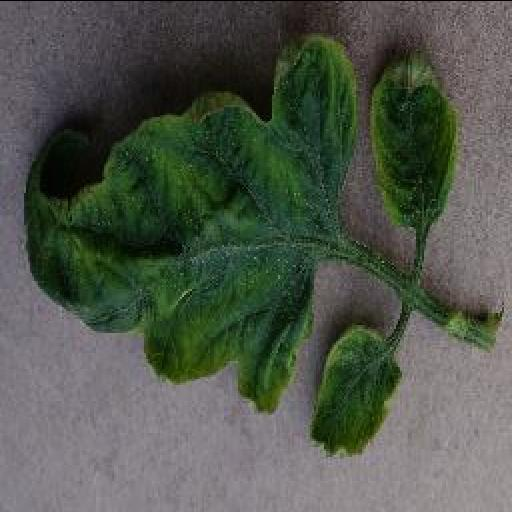disease_tomato: (20, 34, 356, 416), (364, 49, 460, 225), (306, 320, 398, 458)
